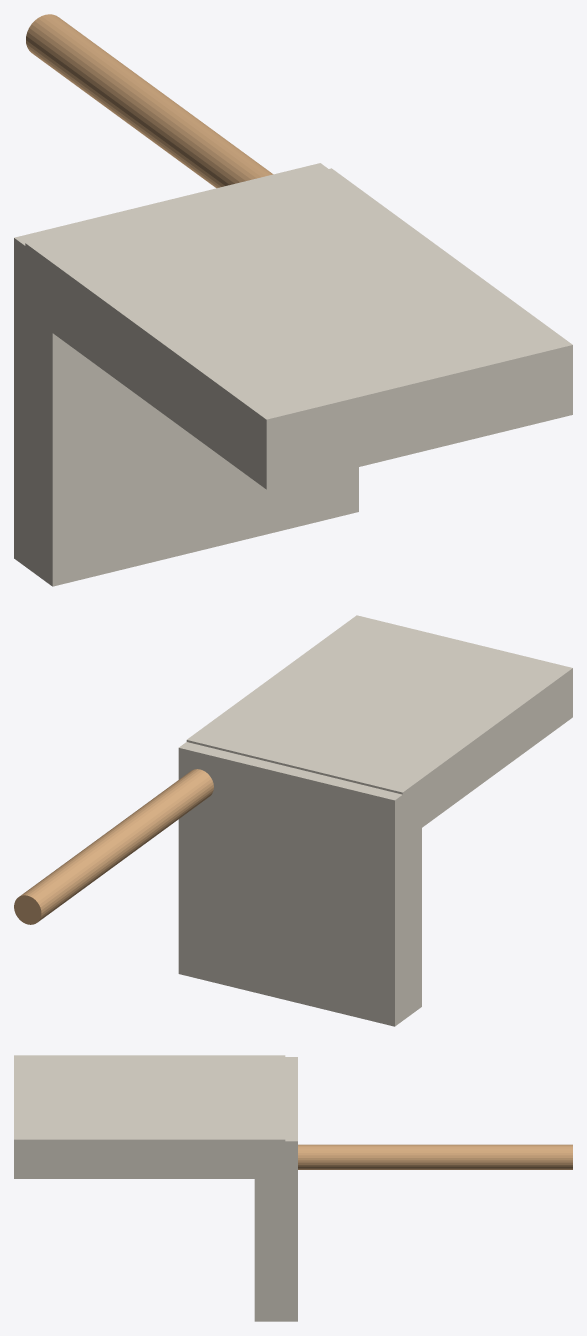
The model's file is dining-chairs.glb.
3 renders of one model, top to bottom at view 1: azimuth 30°, elevation 25°; view 2: azimuth 150°, elevation 25°; view 3: azimuth 270°, elevation 25°, orthographic. The views are drawn at different scales.
Visible parts, largest first — view 1: Back, Seat, Leg; view 2: Seat, Back, Leg; view 3: Back, Seat, Leg.
Part boxes in pixels (x1,y1,x2,y2): Back: (25,168,572,489); Seat: (14,163,358,586); Leg: (26,14,273,188); Seat: (178,742,421,1026); Back: (186,615,572,841); Leg: (14,769,213,924); Back: (14,1055,285,1178); Seat: (254,1057,297,1321); Leg: (298,1144,572,1169).
Bounding box in the file's own units: 0.55 × 0.555 × 1.55.
